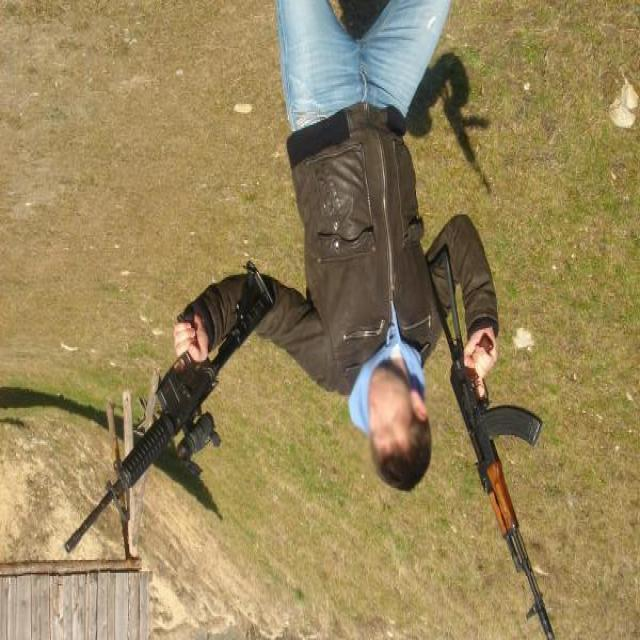weapon: (64, 260, 277, 554), (424, 246, 556, 640)
